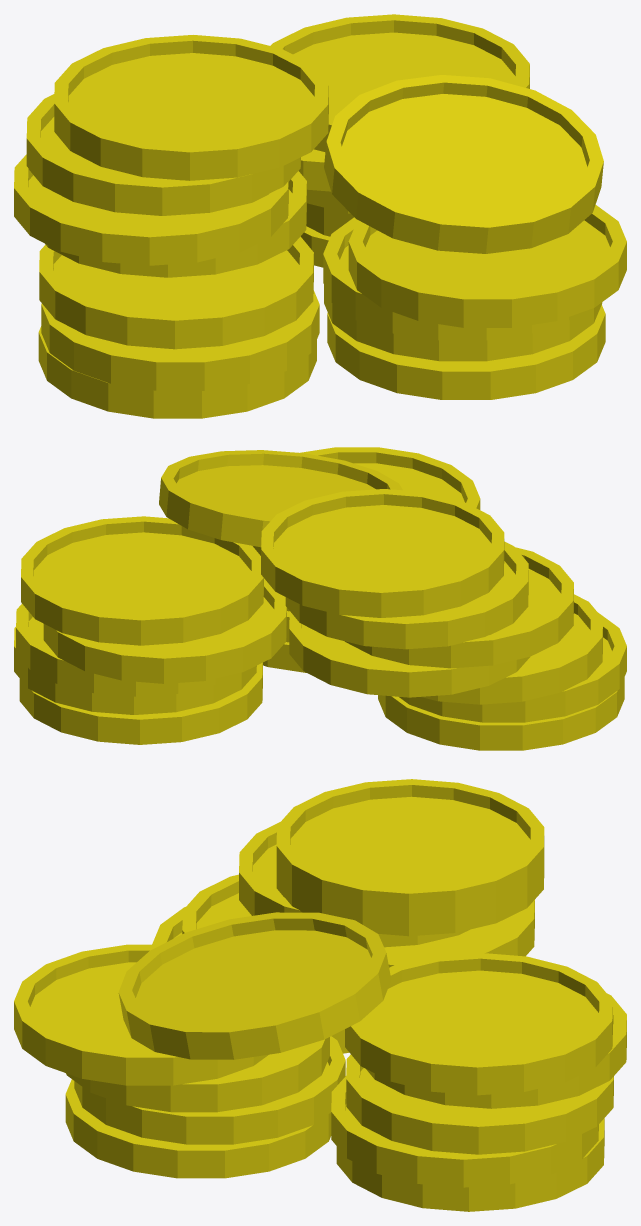
Rendered from tower_gold.glb.
3 renders of one model, top to bottom at view 1: azimuth 30°, elevation 25°; view 2: azimuth 150°, elevation 25°; view 3: azimuth 270°, elevation 25°, orthographic. The views are drawn at different scales.
Visible parts, largest first — view 1: Cylinder.004, Cylinder.023, Cylinder.003, Cylinder.019, Cylinder.015, Cylinder.017, Cylinder.022, Cylinder.018, Cylinder, Cylinder.021, Cylinder.001, Cylinder.002 (+5 smaller); view 2: Cylinder.023, Cylinder.015, Cylinder.004, Cylinder.014, Cylinder.018, Cylinder.017, Cylinder.016, Cylinder.011, Cylinder.021, Cylinder.019, Cylinder.022, Cylinder.012 (+3 smaller); view 3: Cylinder.023, Cylinder.004, Cylinder.015, Cylinder.003, Cylinder.013, Cylinder.012, Cylinder, Cylinder.001, Cylinder.002, Cylinder.011, Cylinder.014, Cylinder.017 (+4 smaller).
Boxes of the visible parts, box(x1,y1,x2,y2) form: Cylinder.004: box(324, 75, 603, 253); Cylinder.023: box(54, 35, 328, 180); Cylinder.003: box(348, 204, 626, 327); Cylinder.019: box(39, 236, 313, 349); Cylinder.015: box(270, 14, 529, 151); Cylinder.017: box(14, 154, 288, 265); Cylinder.022: box(41, 290, 319, 390); Cylinder.018: box(26, 94, 300, 215); Cylinder: box(327, 305, 605, 399); Cylinder.021: box(38, 326, 316, 418); Cylinder.001: box(324, 285, 602, 361); Cylinder.002: box(323, 217, 576, 340); Cylinder.023: box(261, 489, 504, 617); Cylinder.015: box(21, 516, 263, 645); Cylinder.004: box(159, 450, 402, 547); Cylinder.014: box(43, 578, 286, 683); Cylinder.018: box(285, 541, 528, 649); Cylinder.017: box(345, 547, 573, 668); Cylinder.016: box(289, 611, 529, 697); Cylinder.011: box(19, 662, 262, 744); Cylinder.021: box(378, 677, 624, 750); Cylinder.019: box(421, 594, 602, 704); Cylinder.022: box(399, 612, 626, 722); Cylinder.012: box(14, 627, 256, 714); Cylinder.023: box(276, 779, 544, 921); Cylinder.004: box(118, 912, 391, 1059); Cylinder.015: box(345, 953, 612, 1095); Cylinder.003: box(14, 944, 268, 1085); Cylinder.013: box(346, 1054, 613, 1154); Cylinder.012: box(331, 1076, 598, 1187); Cylinder: box(65, 1079, 331, 1178); Cylinder.001: box(74, 1036, 345, 1144); Cylinder.002: box(66, 1037, 329, 1112); Cylinder.011: box(336, 1118, 604, 1211); Cylinder.014: box(366, 993, 626, 1108); Cylinder.017: box(239, 822, 469, 947).
Bounding box in the file's own units: 4.68 × 1.67 × 4.52.
